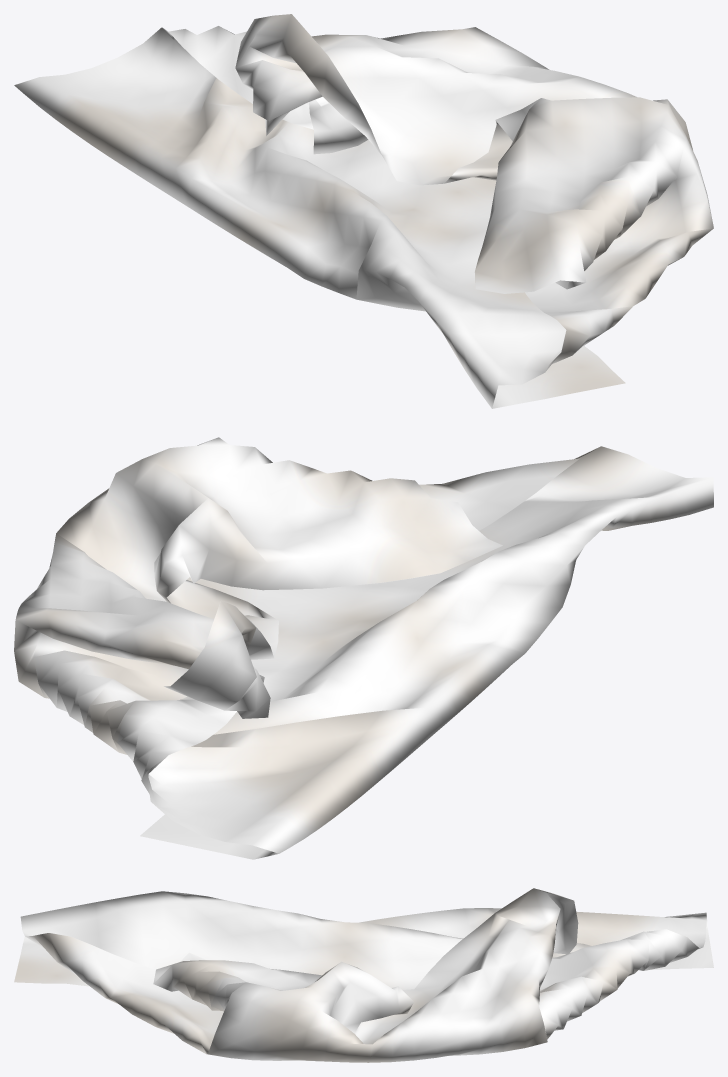
Rendered from cloth2_everything_v1.fbx.
3 renders of one model, top to bottom at view 1: azimuth 30°, elevation 25°; view 2: azimuth 150°, elevation 25°; view 3: azimuth 270°, elevation 25°, orthographic. The views are drawn at different scales.
Parts seen in each view (by area): view 1: Cloth2; view 2: Cloth2; view 3: Cloth2.
Part boxes in pixels (<box>): Cloth2: <box>14,14,713,408</box>; Cloth2: <box>14,437,713,859</box>; Cloth2: <box>14,888,713,1062</box>.
Bounding box in the file's own units: 219 × 61.25 × 402.
